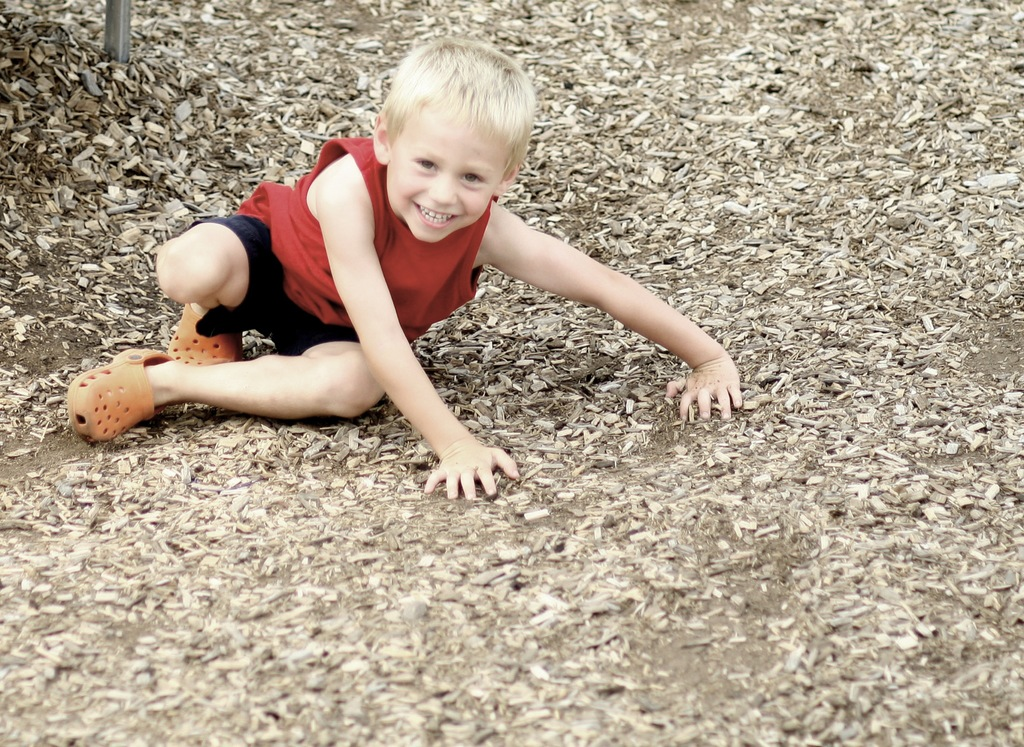face: (385, 109, 507, 237)
